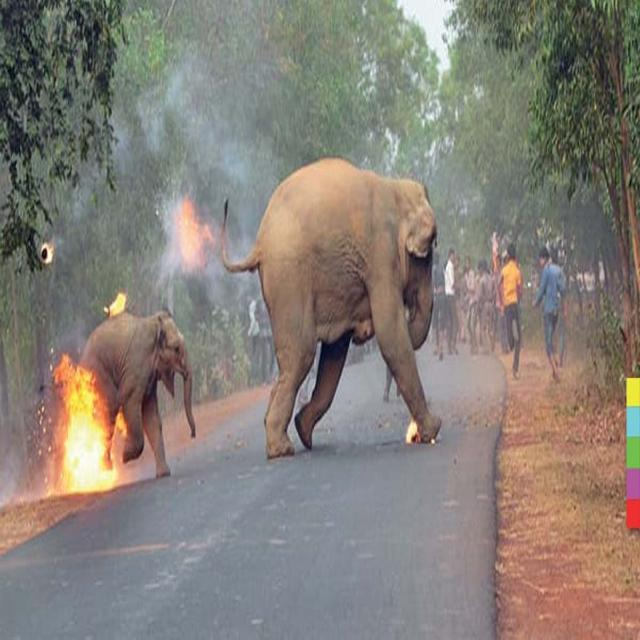Elephant: (216, 95, 457, 499), (61, 294, 201, 518)
